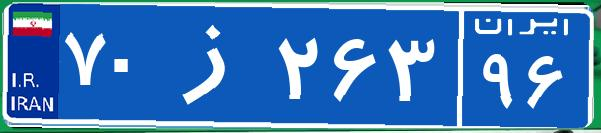0: (110, 28, 158, 105)
2: (273, 28, 330, 110)
3: (385, 28, 445, 110)
6: (330, 28, 385, 110), (525, 38, 570, 115)
7: (57, 26, 110, 107)
9: (475, 38, 525, 113)
ز: (158, 15, 273, 115)
